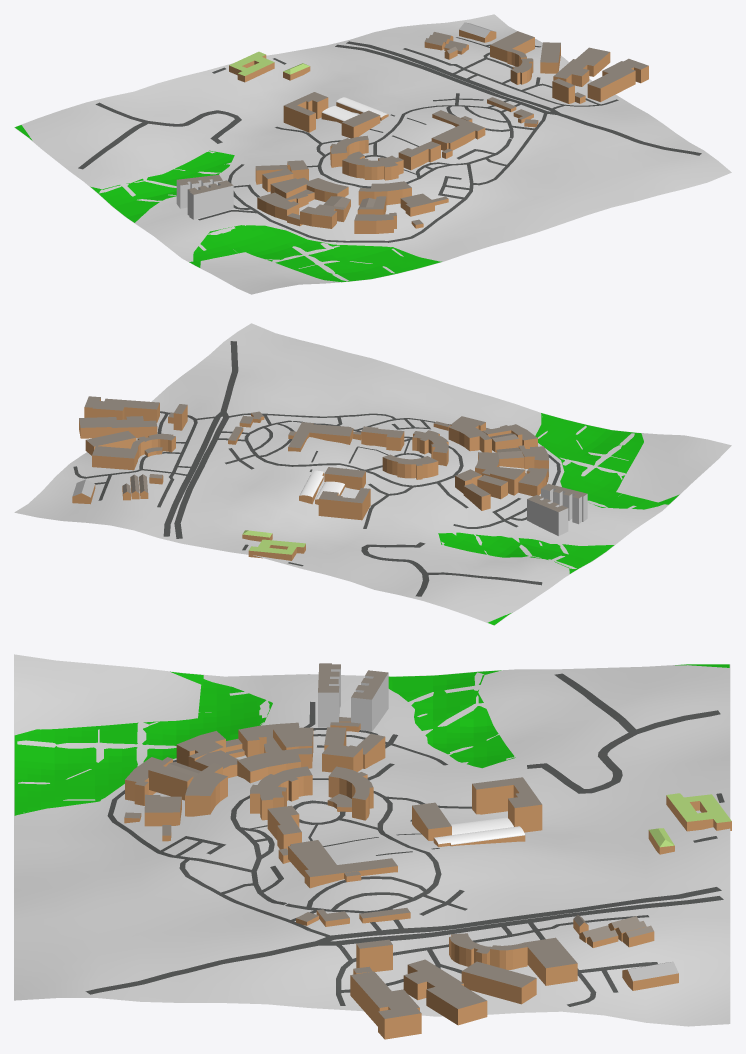
The picture shows the model from 3 angles, top to bottom: view 1: azimuth 30°, elevation 25°; view 2: azimuth 150°, elevation 25°; view 3: azimuth 270°, elevation 25°; orthographic projection. The views are drawn at different scales.
Visible parts, largest first — view 1: Terrain, map_2.osm_buildings, map_2.osm_vegetation, map_2.osm_roads_service, map_2.osm_roads_residential; view 2: Terrain, map_2.osm_buildings, map_2.osm_vegetation, map_2.osm_roads_service, map_2.osm_roads_residential; view 3: Terrain, map_2.osm_buildings, map_2.osm_vegetation, map_2.osm_roads_service, map_2.osm_roads_residential.
Part boxes in pixels (x1,y1,x2,y2): Terrain: (14,14,731,294); map_2.osm_buildings: (176,22,648,233); map_2.osm_vegetation: (15,125,441,282); map_2.osm_roads_service: (198,37,618,242); map_2.osm_roads_residential: (78,41,701,169); Terrain: (14,323,731,625); map_2.osm_buildings: (72,396,587,560); map_2.osm_vegetation: (438,413,679,625); map_2.osm_roads_service: (73,411,560,566); map_2.osm_roads_residential: (163,341,542,596); Terrain: (14,654,730,1026); map_2.osm_buildings: (124,663,731,1039); map_2.osm_vegetation: (14,664,729,815); map_2.osm_roads_service: (107,701,724,1006); map_2.osm_roads_residential: (85,673,723,994).
Size of the model in its own units: 66491 by 4363 by 52684.
